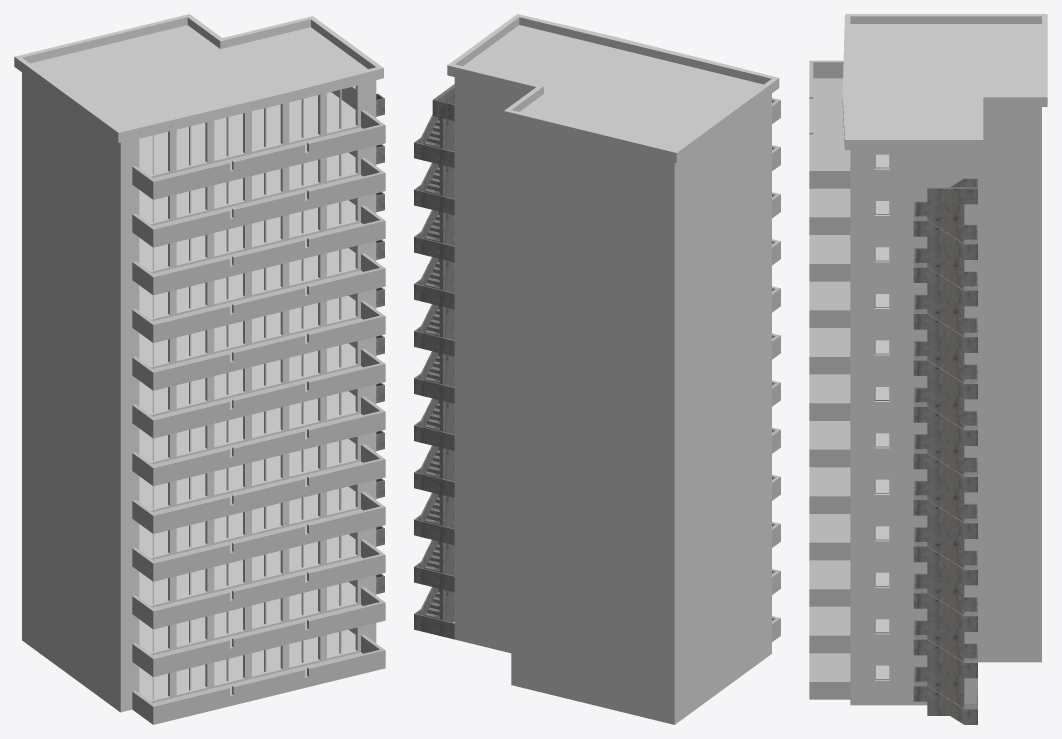
The model's file is bill2.obj.
The picture shows the model from 3 angles, left to right: view 1: azimuth 30°, elevation 25°; view 2: azimuth 150°, elevation 25°; view 3: azimuth 270°, elevation 25°; orthographic projection. The views are drawn at different scales.
Parts seen in each view (by area): view 1: Plane.001; view 2: Plane.001; view 3: Plane.001.
Boxes of the visible parts, x1,y1,x2,y2 form: Plane.001: [14, 14, 385, 724]; Plane.001: [414, 14, 780, 724]; Plane.001: [809, 14, 1047, 724].
Size of the model in its own units: 17.71 by 32.65 by 12.42.
2 materials, 1 textured.
